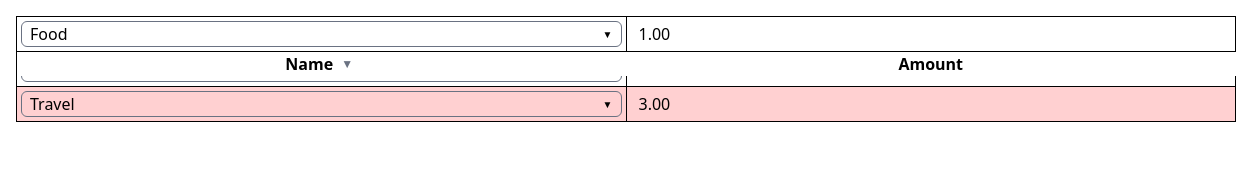
Test: GenericTable › when columns are filterable › should keep validationErrors targeting the original row index once earlier rows are filtered out
Click the button named "Filter by Name". click: point(347, 64)
box: [337, 54, 357, 74]
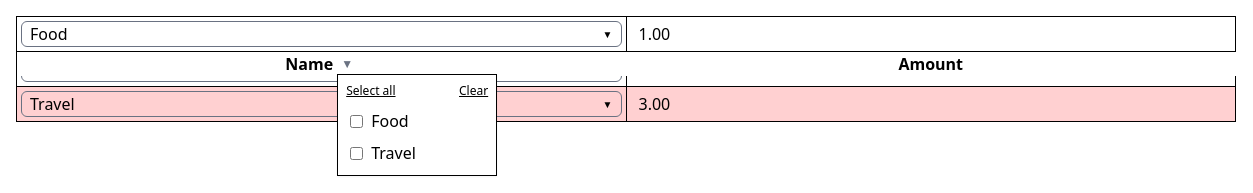
Click the checkbox labelled "Travel". click: point(357, 153)
box: [350, 146, 363, 160]
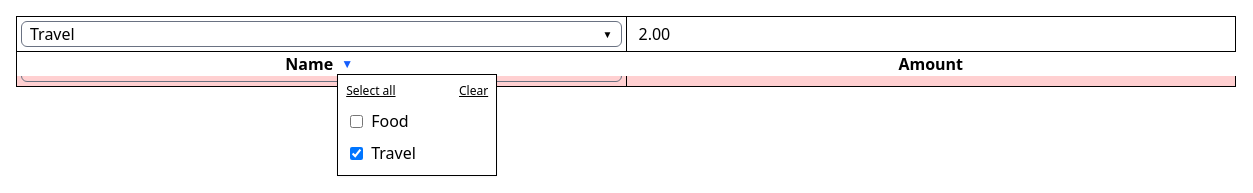
Result: the number of "TableRow" components is 2 at [16, 16, 1236, 52]; [16, 52, 1236, 86]
